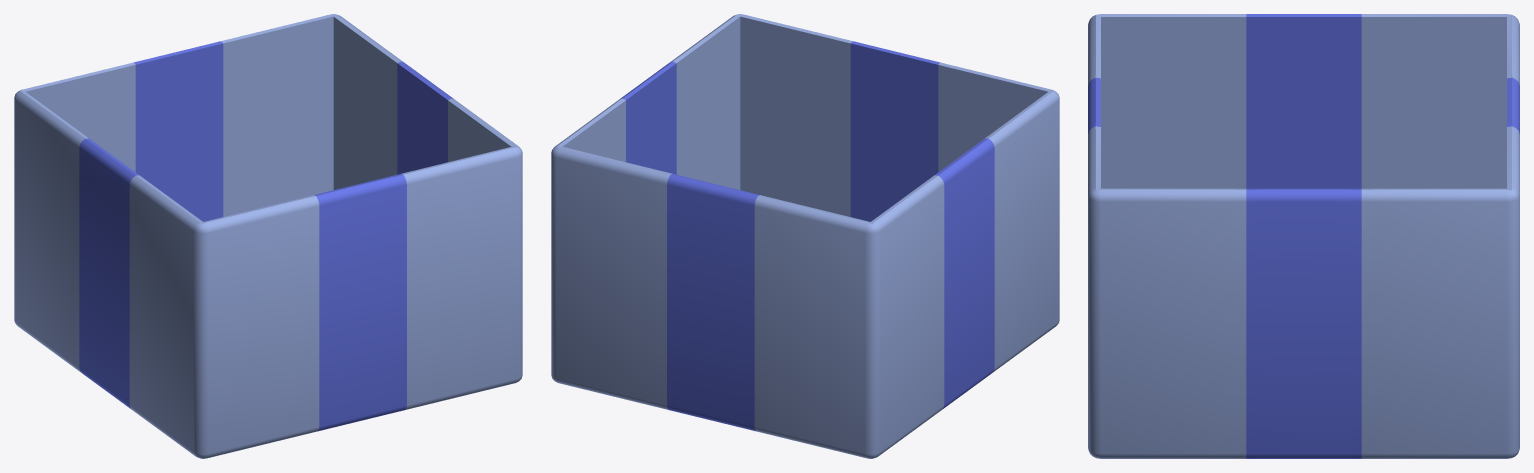
3 views of the same model, side by side, from view 1: azimuth 30°, elevation 25°; view 2: azimuth 150°, elevation 25°; view 3: azimuth 270°, elevation 25° (orthographic). The views are drawn at different scales.
Parts seen in each view (by area): view 1: Box; view 2: Box; view 3: Box.
Boxes of the visible parts, bbox=[...] form: Box: bbox=[14, 14, 522, 458]; Box: bbox=[551, 14, 1059, 458]; Box: bbox=[1088, 14, 1519, 458].
Bounding box in the file's own units: 0.2 × 0.1379 × 0.2.
